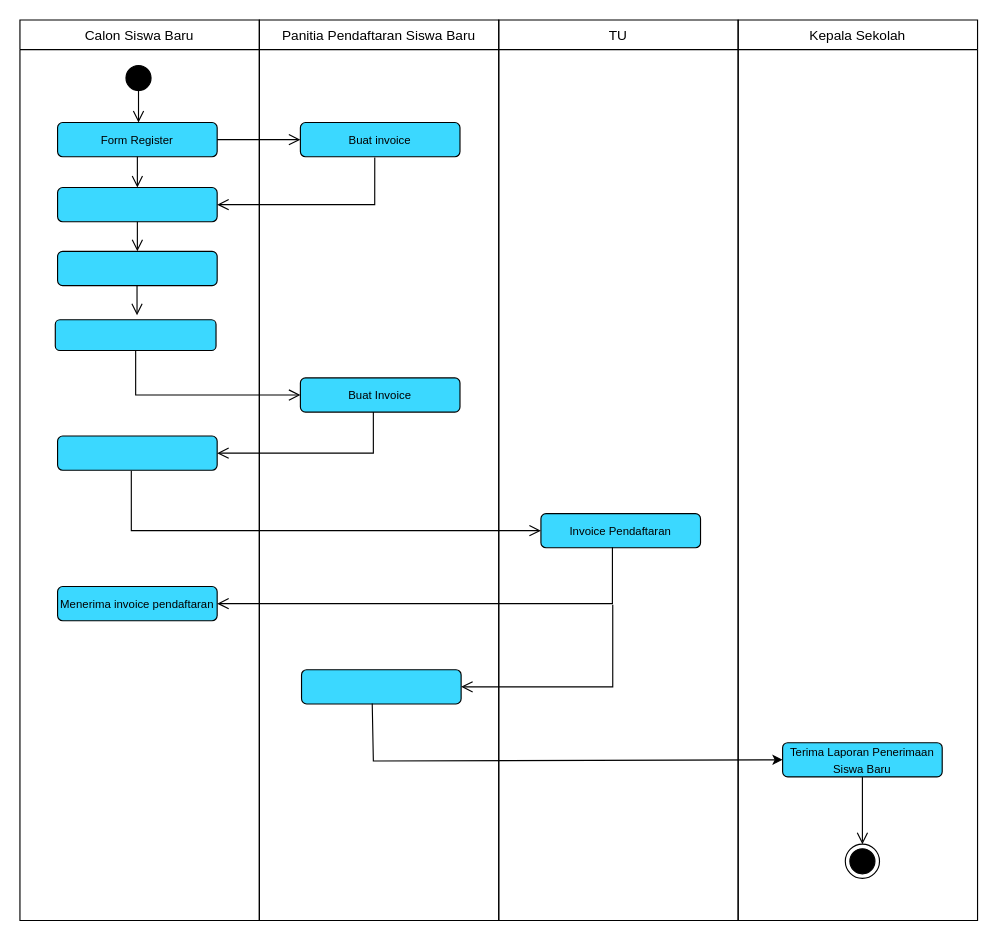
Image size: 998x941. Some labels were removed from this diagram. The centre of each missing label's shape, as x and y in pixels:
Bayar Pendaftaran: [136,452]
Berkas Persyaratan: [135,335]
Form Pendaftaran: [136,268]
Menerima invoice Register: [136,204]
Pelaporan Pendaftar: [380,686]
